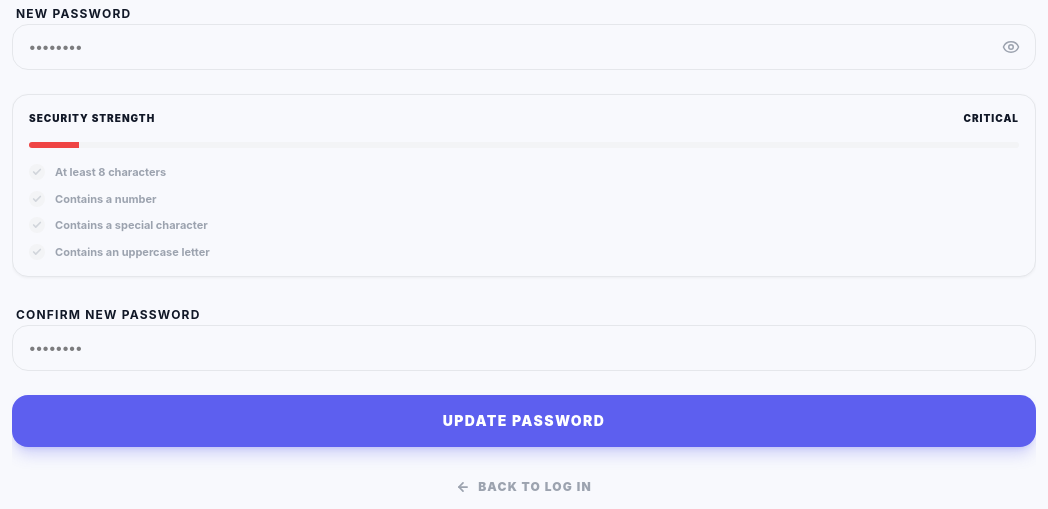
Test: ResetPasswordForm › met à jour la force du mot de passe dynamiquement
expect the text "Critical" is shown: met, box [963,111,1019,126]
Type "abc1!" into the 1st password field with placeholder "••••••••".
click(524, 47); type("abc1!")  # box [12,24,1036,70]
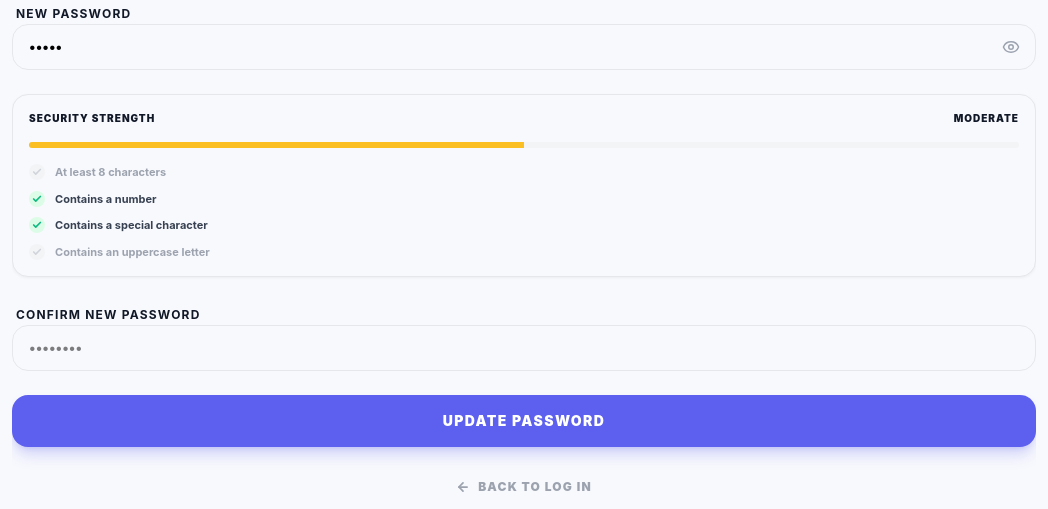
expect the text "Moderate" is shown: met, box [954,111,1019,126]
Type "Abcdefg1!" into the password field with placeholder "••••••••".
click(524, 47); type("Abcdefg1!")  # box [12,24,1036,70]
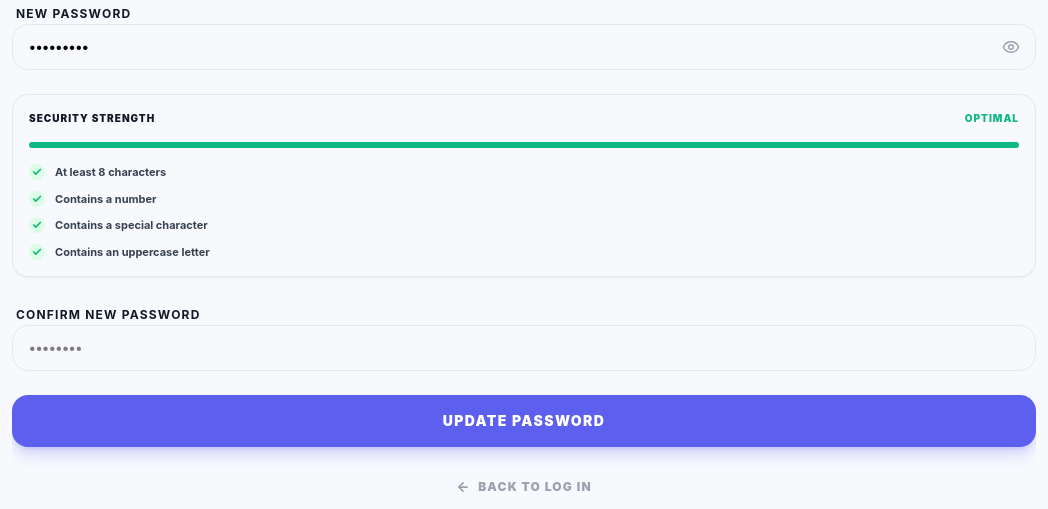
expect the text "Optimal" is shown: met, box [965,111,1019,126]
